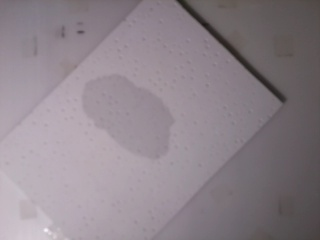Water_detected: (97, 83, 162, 152)
